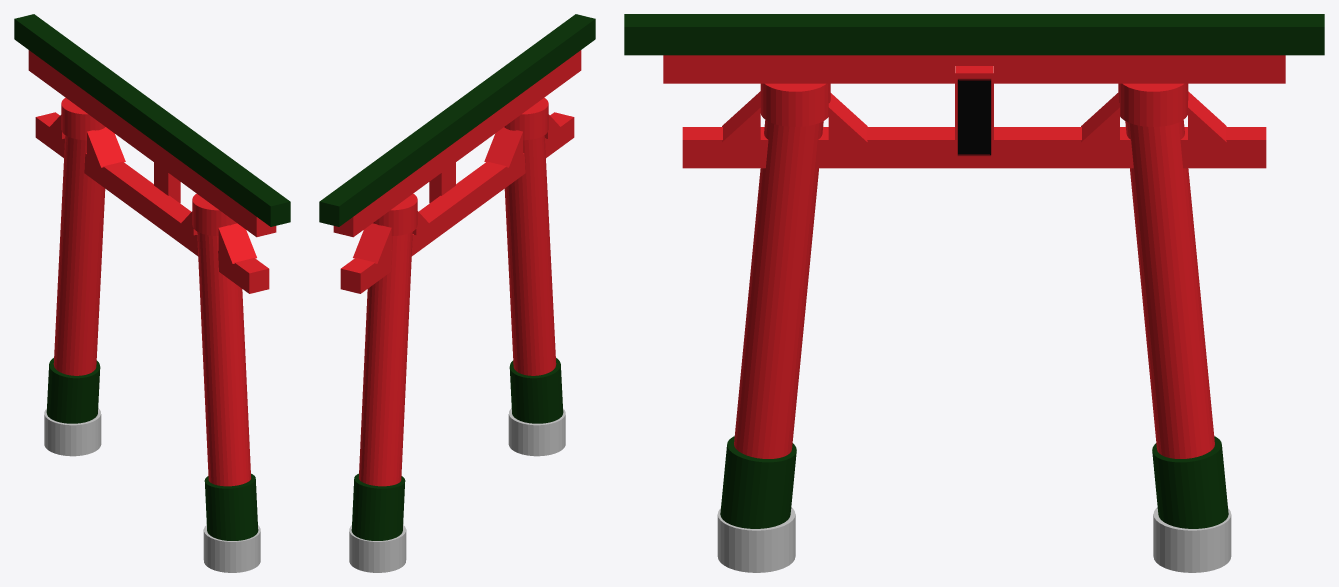
File: Torii.obj
The picture shows the model from 3 angles, left to right: view 1: azimuth 30°, elevation 25°; view 2: azimuth 150°, elevation 25°; view 3: azimuth 270°, elevation 25°; orthographic projection. The views are drawn at different scales.
Visible parts, largest first — view 1: Cube, Cylinder.001, Cylinder, Cube.001, Cube.003, Cylinder.006, Cylinder.002, Cylinder.005, Cylinder.007, Cube.006, Cube.004, Cylinder.004 (+2 smaller); view 2: Cube, Cylinder, Cylinder.001, Cube.001, Cube.003, Cylinder.002, Cylinder.006, Cylinder.007, Cylinder.005, Cube.005, Cube.007, Cylinder.004 (+2 smaller); view 3: Cube, Cylinder, Cylinder.001, Cube.003, Cube.001, Cylinder.002, Cylinder.006, Cube.002, Cylinder.005, Cylinder.007, Cylinder.004, Cylinder.003 (+4 smaller).
Part boxes in pixels (x1,y1,x2,y2): Cube: (14, 14, 290, 226); Cylinder.001: (197, 231, 250, 486); Cylinder: (53, 135, 105, 375); Cube.001: (35, 112, 269, 293); Cube.003: (28, 50, 276, 237); Cylinder.006: (204, 473, 258, 540); Cylinder.002: (46, 358, 100, 423); Cylinder.005: (44, 408, 101, 456); Cylinder.007: (203, 525, 260, 572); Cube.006: (218, 223, 256, 263); Cube.004: (87, 127, 125, 167); Cylinder.004: (192, 193, 236, 235); Cube: (319, 14, 595, 226); Cylinder: (359, 231, 412, 486); Cylinder.001: (504, 135, 556, 375); Cube.001: (340, 112, 574, 293); Cube.003: (333, 50, 581, 237); Cylinder.002: (351, 473, 405, 540); Cylinder.006: (509, 358, 563, 423); Cylinder.007: (508, 408, 565, 456); Cylinder.005: (349, 525, 406, 572); Cube.005: (353, 223, 391, 263); Cube.007: (484, 127, 522, 167); Cylinder.004: (504, 97, 548, 140); Cube: (624, 14, 1324, 55); Cylinder: (1125, 120, 1214, 458); Cylinder.001: (734, 120, 823, 458); Cube.003: (663, 55, 1285, 83); Cube.001: (682, 127, 1266, 168); Cylinder.002: (1152, 436, 1228, 528); Cylinder.006: (720, 436, 796, 528); Cube.002: (955, 66, 993, 161); Cylinder.005: (1153, 507, 1231, 572); Cylinder.007: (717, 507, 795, 572); Cylinder.004: (760, 83, 830, 126); Cylinder.003: (1118, 83, 1188, 126).
Bounding box in the file's own units: 4.01 × 30.46 × 36.07.
